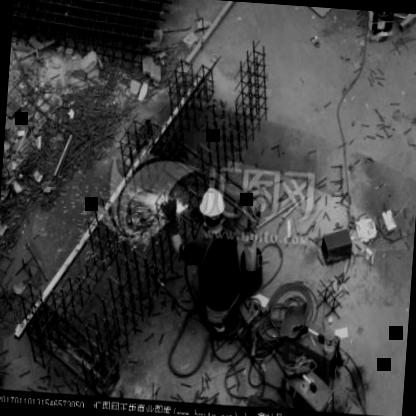helmet: (194, 184, 228, 228)
